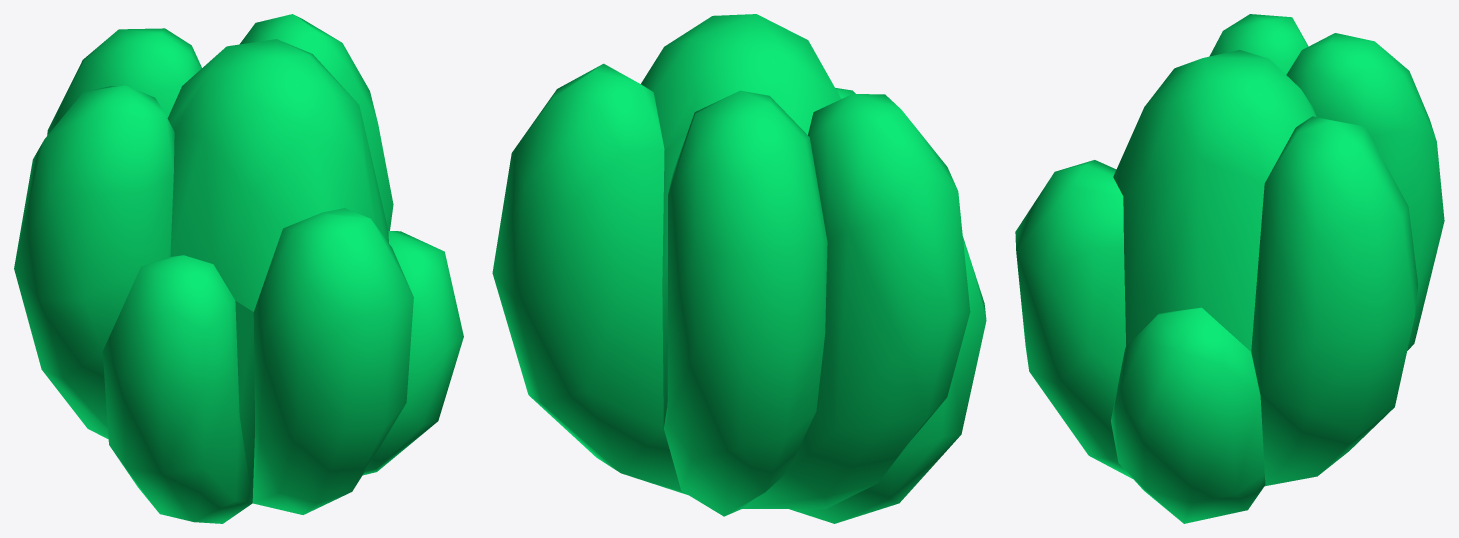
File: obj_resource_coralium.fbx
3 views of the same model, side by side, from view 1: azimuth 30°, elevation 25°; view 2: azimuth 150°, elevation 25°; view 3: azimuth 270°, elevation 25° (orthographic). The views are drawn at different scales.
Visible parts, largest first — view 1: gn_coralium.001; view 2: gn_coralium.001; view 3: gn_coralium.001.
Part boxes in pixels (x1,y1,x2,y2): gn_coralium.001: [14, 14, 463, 523]; gn_coralium.001: [492, 14, 986, 523]; gn_coralium.001: [1015, 14, 1444, 523].
Size of the model in its own units: 2.07 by 2.25 by 2.
